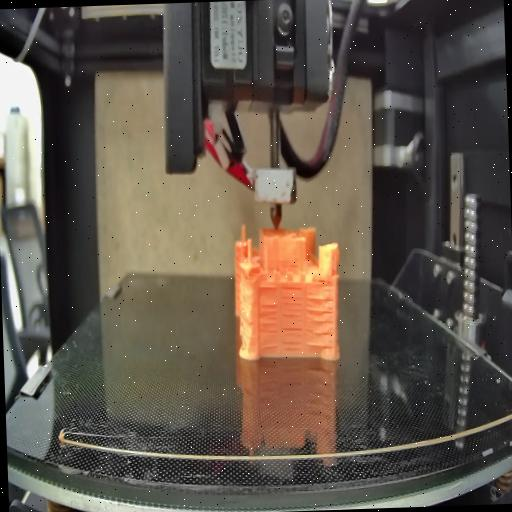cracks: (304, 294, 335, 348), (256, 302, 278, 346), (279, 285, 304, 318), (280, 326, 304, 352), (258, 283, 278, 292)
